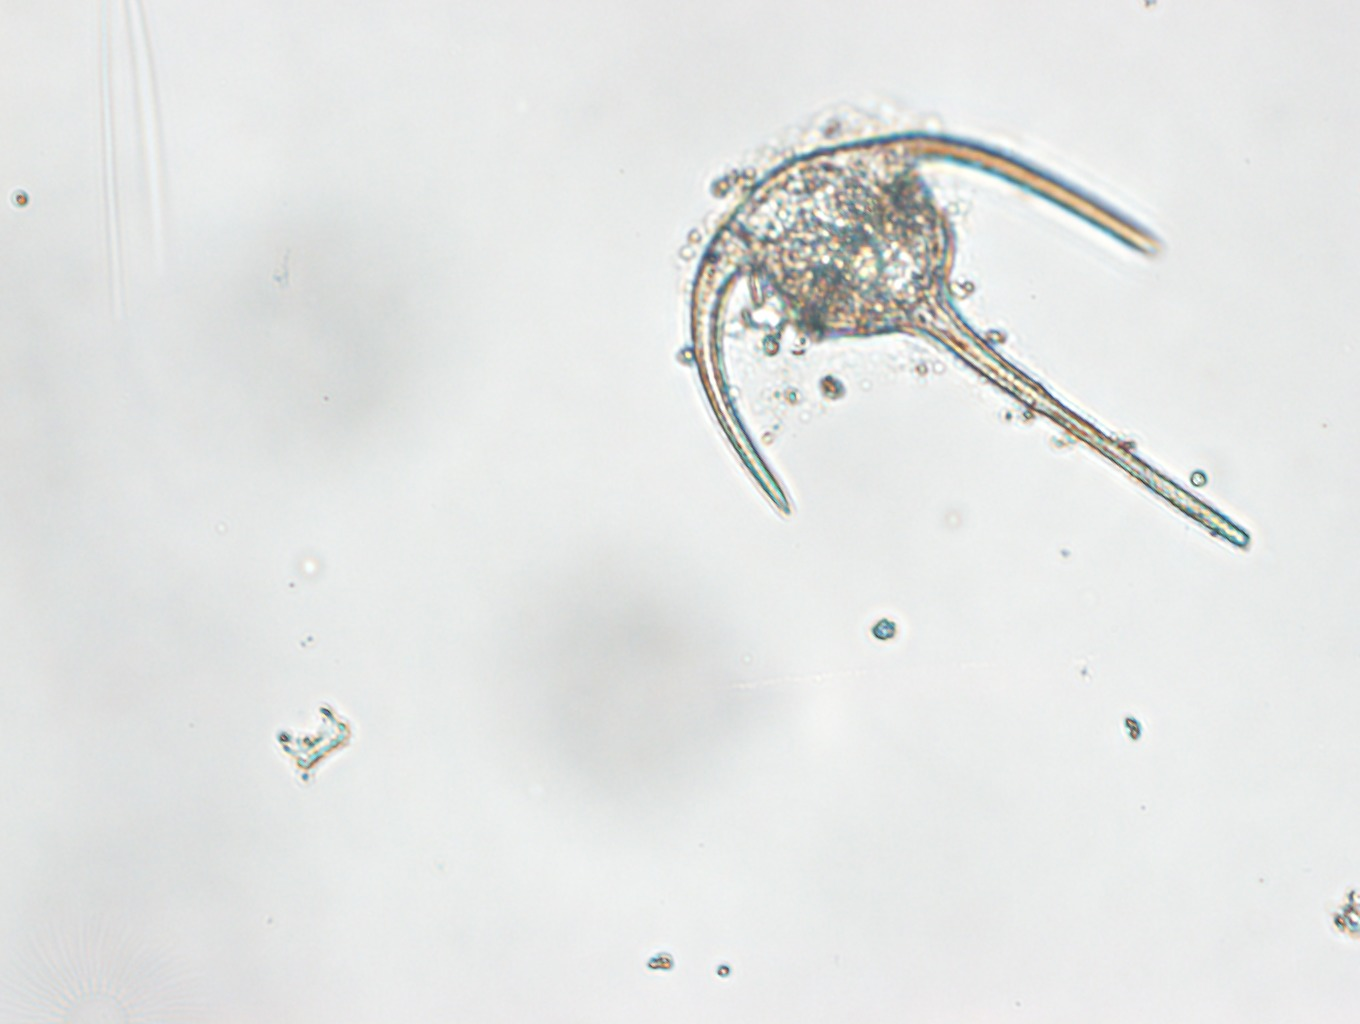ceratium tripos: (686, 128, 1252, 553)
